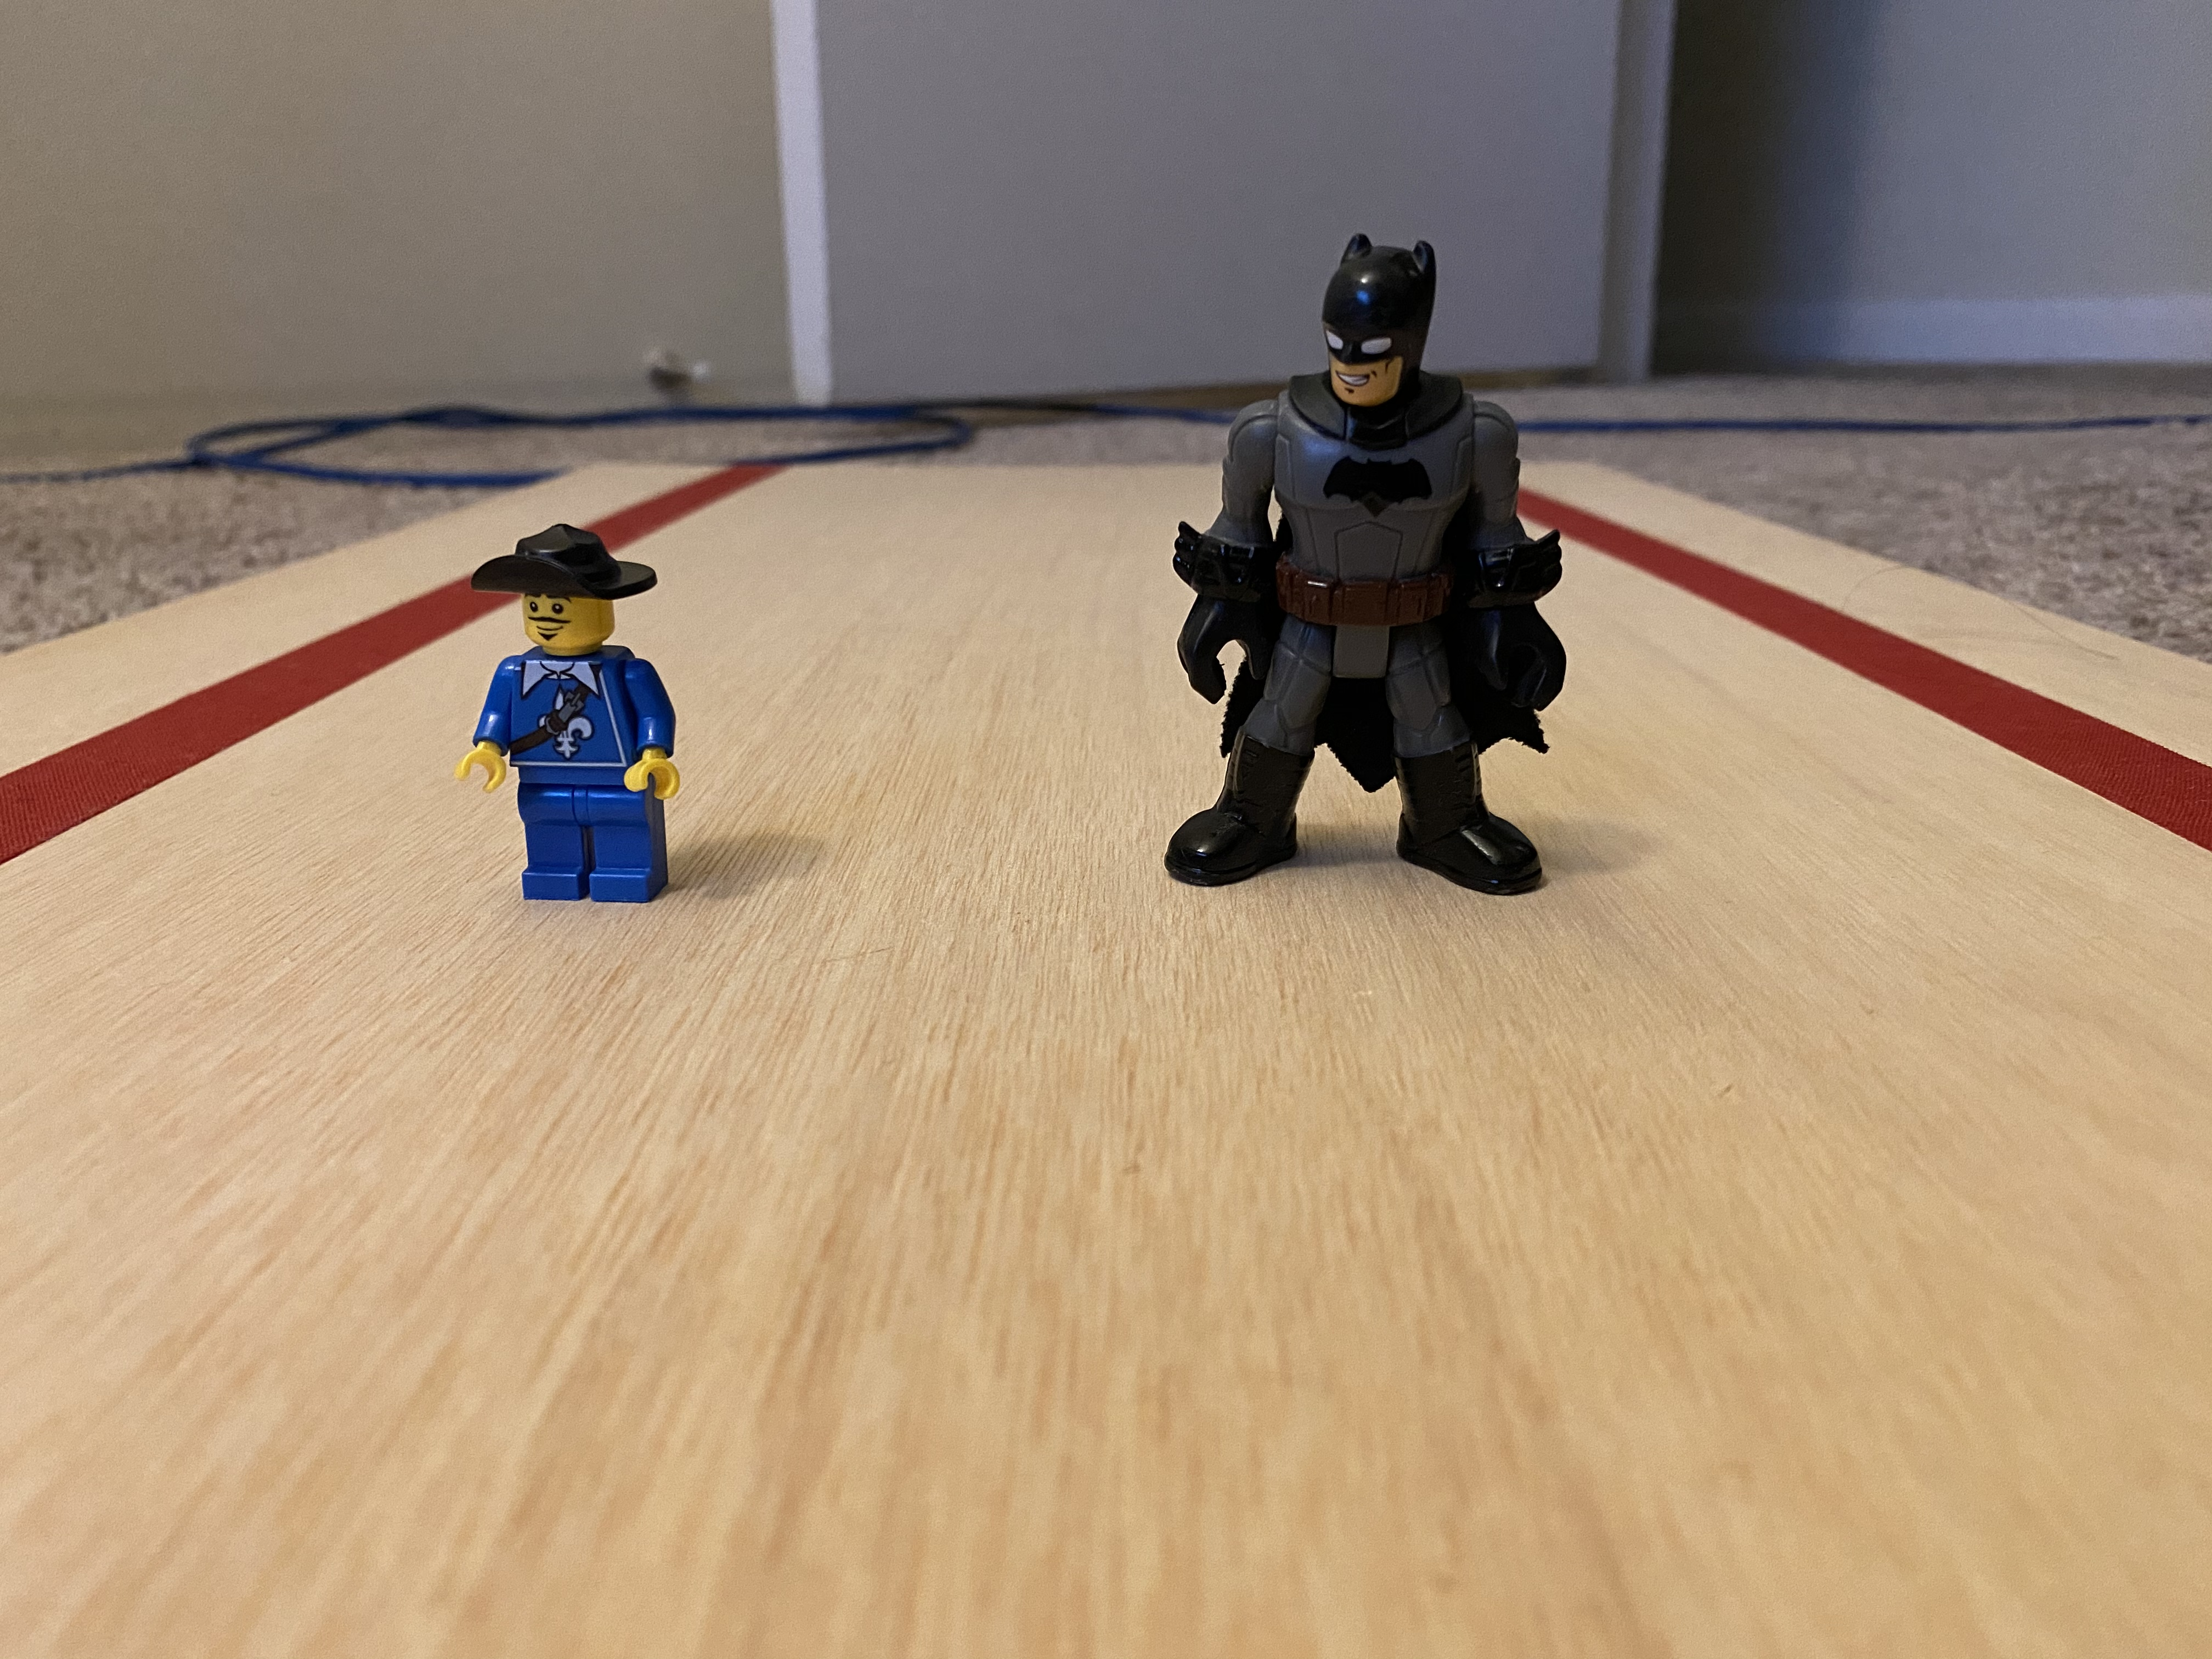Person: (1133, 226, 1600, 907), (443, 505, 736, 926)
